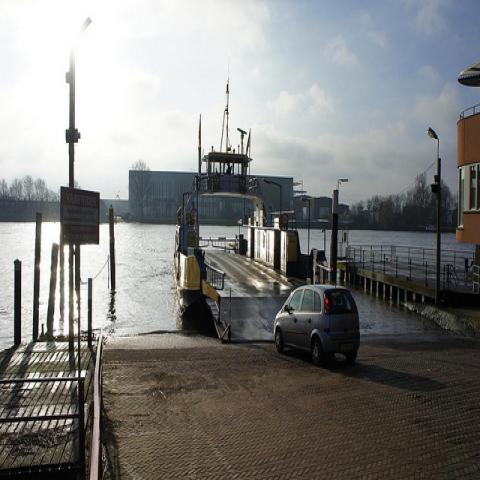car: (272, 282, 360, 368)
